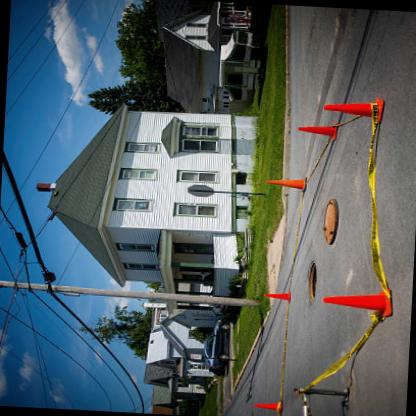manholes: (292, 190, 361, 315)
